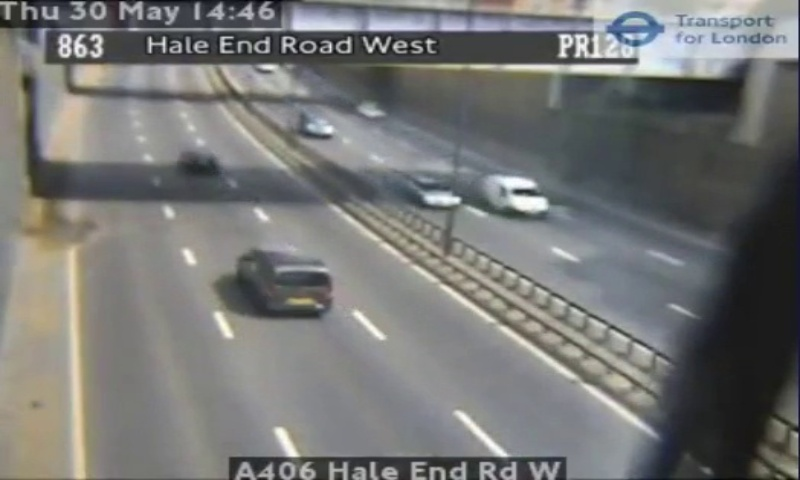van: (241, 248, 334, 314)
